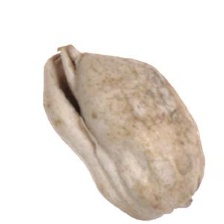L1: (47, 41, 89, 121), (156, 190, 199, 214)
L2: (42, 44, 206, 221)
